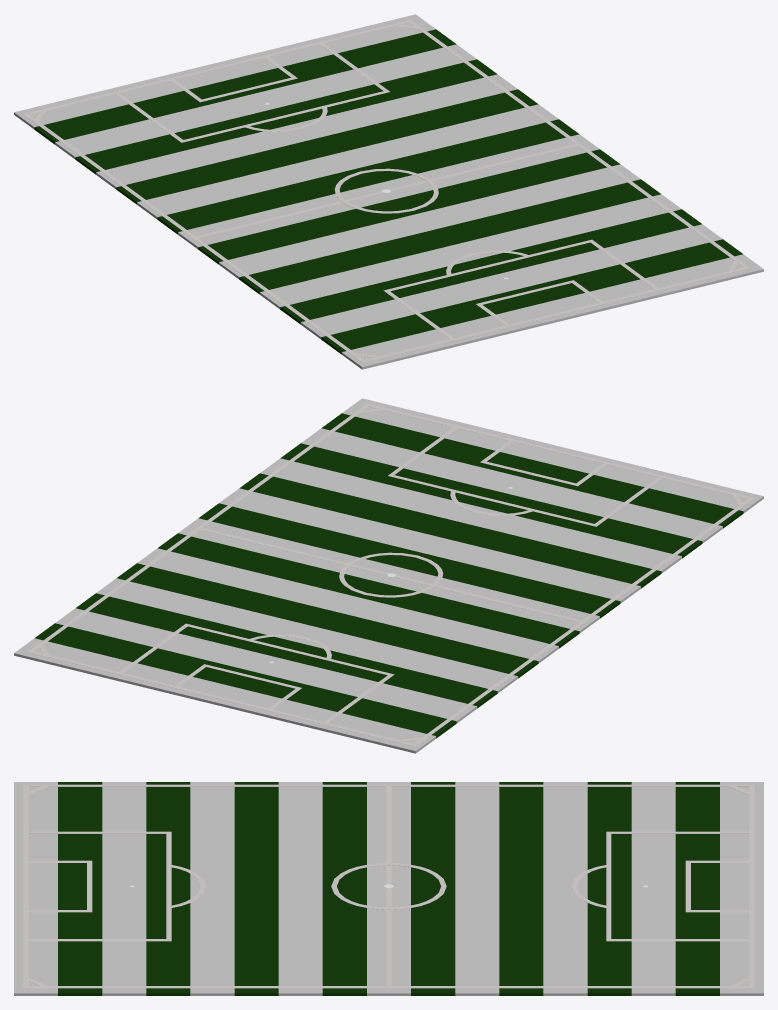
Rendered from Football-Soccer Field - Roblox.obj.
3 views of the same model, one above another, from view 1: azimuth 30°, elevation 25°; view 2: azimuth 150°, elevation 25°; view 3: azimuth 270°, elevation 25° (orthographic). The views are drawn at different scales.
Parts seen in each view (by area): view 1: Part6, Part3, Part11, Part40, Part12, Part1, Part10, Part8, Part5, Part15, Part14, Part7 (+13 smaller); view 2: Part41, Part11, Part12, Part40, Part3, Part1, Part10, Part5, Part8, Part14, Part15, Part7 (+13 smaller); view 3: Part3, Part11, Part12, Part40, Part10, Part1, Part5, Part8, Part14, Part15, Part4, Part7 (+17 smaller).
Part boxes in pixels (x1,y1,x2,y2): Part6: (341,254,763,369); Part3: (137,104,558,219); Part11: (239,179,660,294); Part40: (116,89,538,204); Part12: (219,164,640,279); Part1: (96,74,517,189); Part10: (259,194,681,309); Part8: (300,224,722,339); Part5: (55,44,476,159); Part15: (198,149,619,264); Part14: (157,119,579,234); Part7: (321,239,742,354); Part41: (14,638,436,753); Part11: (239,473,661,588); Part12: (219,488,640,603); Part40: (117,563,538,678); Part3: (137,548,558,663); Part1: (96,578,518,693); Part10: (260,458,681,573); Part5: (55,608,477,723); Part8: (301,428,722,543); Part14: (158,533,579,648); Part15: (198,503,620,618); Part7: (321,413,743,528); Part3: (455,782,499,995); Part11: (234,782,278,995); Part12: (278,782,322,995); Part40: (499,782,543,995); Part10: (190,782,234,995); Part1: (543,782,587,995); Part5: (631,782,675,995); Part8: (102,782,146,995); Part14: (411,782,455,995); Part15: (322,782,366,995); Part4: (675,782,719,995); Part7: (58,782,102,995).
Size of the model in its own units: 271 by 1.71 by 407.
